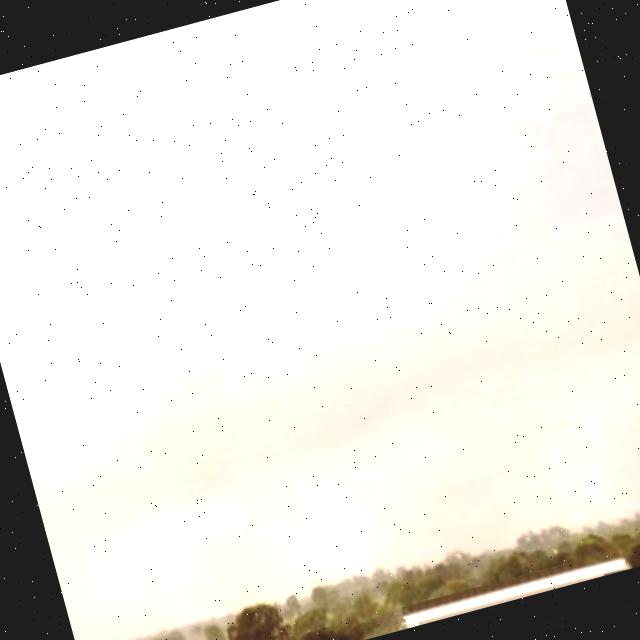St: (1, 1, 640, 593)
